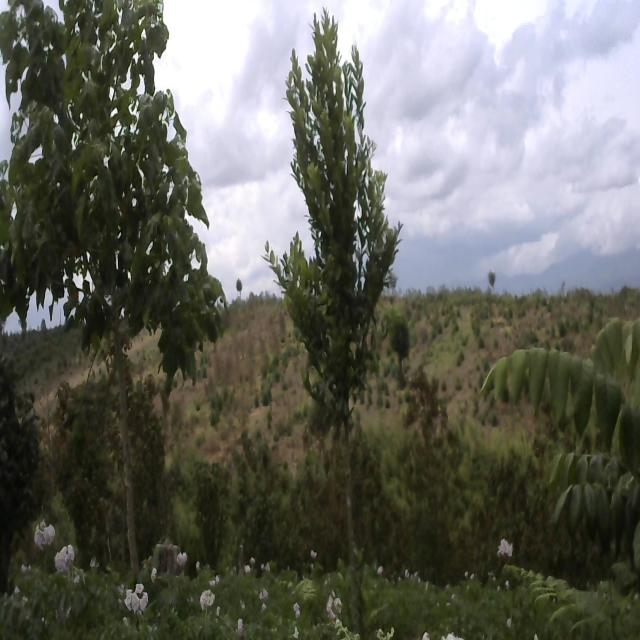Prunus Africana: (0, 0, 221, 578)
Syzygium guinesis: (266, 0, 400, 638)
